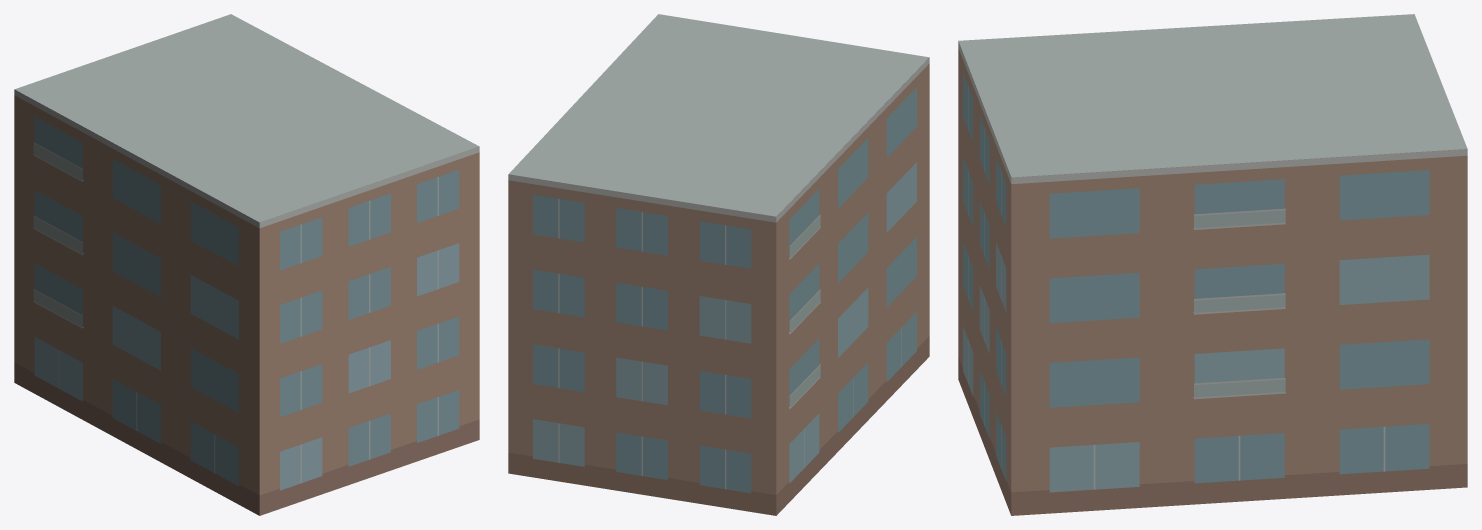
File: survey-upis-32999684.glb
3 renders of one model, left to right at view 1: azimuth 30°, elevation 25°; view 2: azimuth 150°, elevation 25°; view 3: azimuth 270°, elevation 25°, orthographic. The views are drawn at different scales.
Visible parts, largest first — view 1: survey-upis-32999684.tmp; view 2: survey-upis-32999684.tmp; view 3: survey-upis-32999684.tmp.
Part boxes in pixels (x1,y1,x2,y2): survey-upis-32999684.tmp: (14, 14, 479, 515); survey-upis-32999684.tmp: (508, 14, 929, 515); survey-upis-32999684.tmp: (958, 14, 1467, 515).
Bounding box in the file's own units: 12.64 × 12.2 × 16.65.
